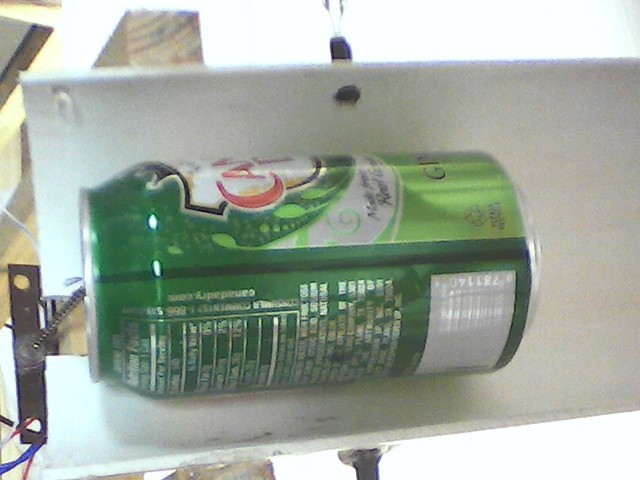lata: (76, 151, 548, 401)
